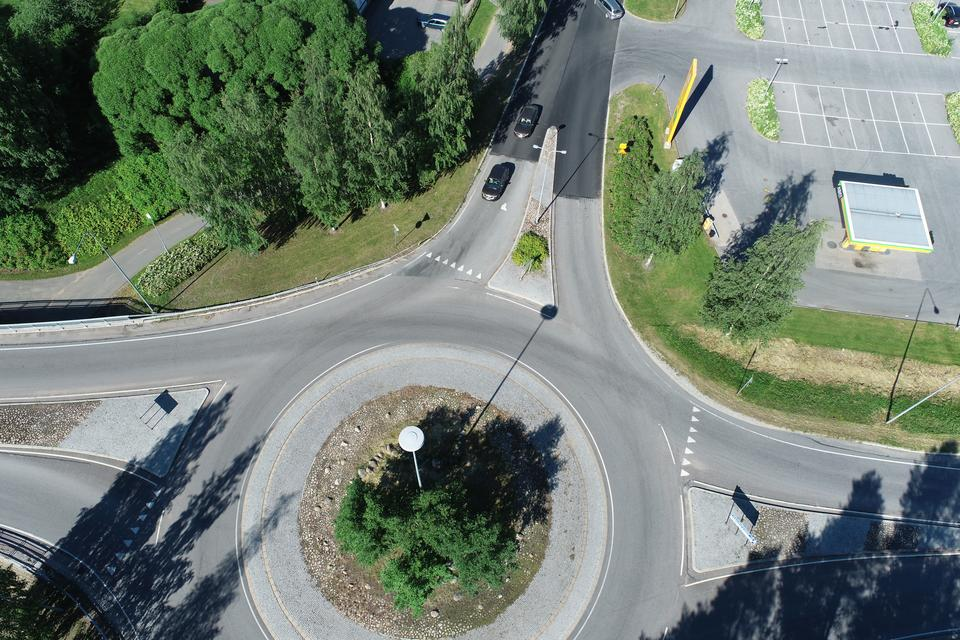roundabout: (138, 227, 751, 640)
